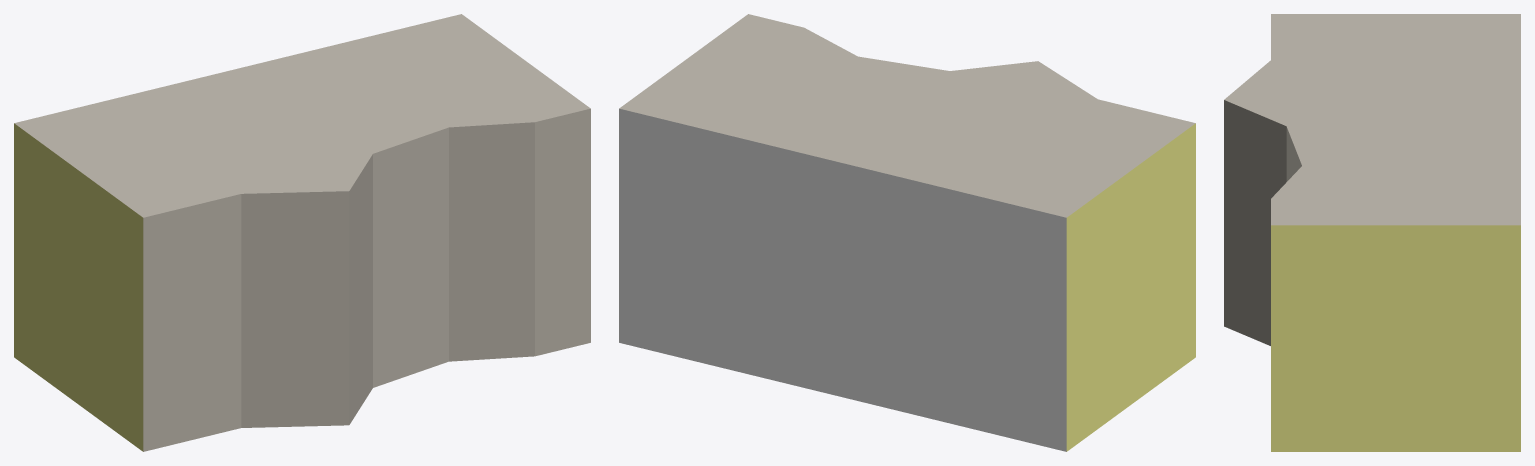
File: Cracked_Straight_2x2_2_Mid.glb
3 views of the same model, side by side, from view 1: azimuth 30°, elevation 25°; view 2: azimuth 150°, elevation 25°; view 3: azimuth 270°, elevation 25° (orthographic). The views are drawn at different scales.
Visible parts, largest first — view 1: Cracked_Straight_2x2_2_Mid; view 2: Cracked_Straight_2x2_2_Mid; view 3: Cracked_Straight_2x2_2_Mid.
Part boxes in pixels (x1,y1,x2,y2): Cracked_Straight_2x2_2_Mid: (14,14,590,451); Cracked_Straight_2x2_2_Mid: (619,14,1195,451); Cracked_Straight_2x2_2_Mid: (1224,14,1520,451).
Size of the model in its own units: 200 by 100 by 119.
